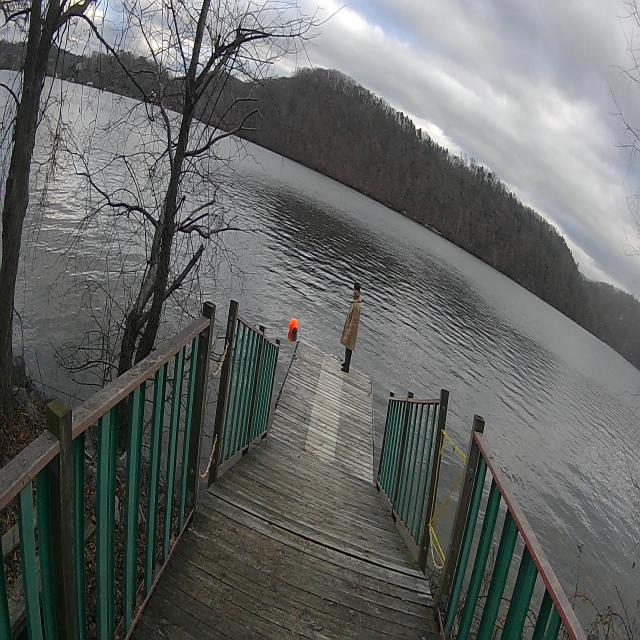Buoy: (288, 315, 302, 344)
